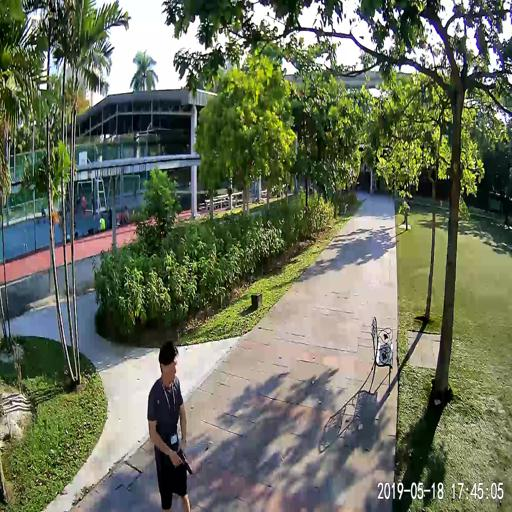pistol: (176, 448, 192, 475)
